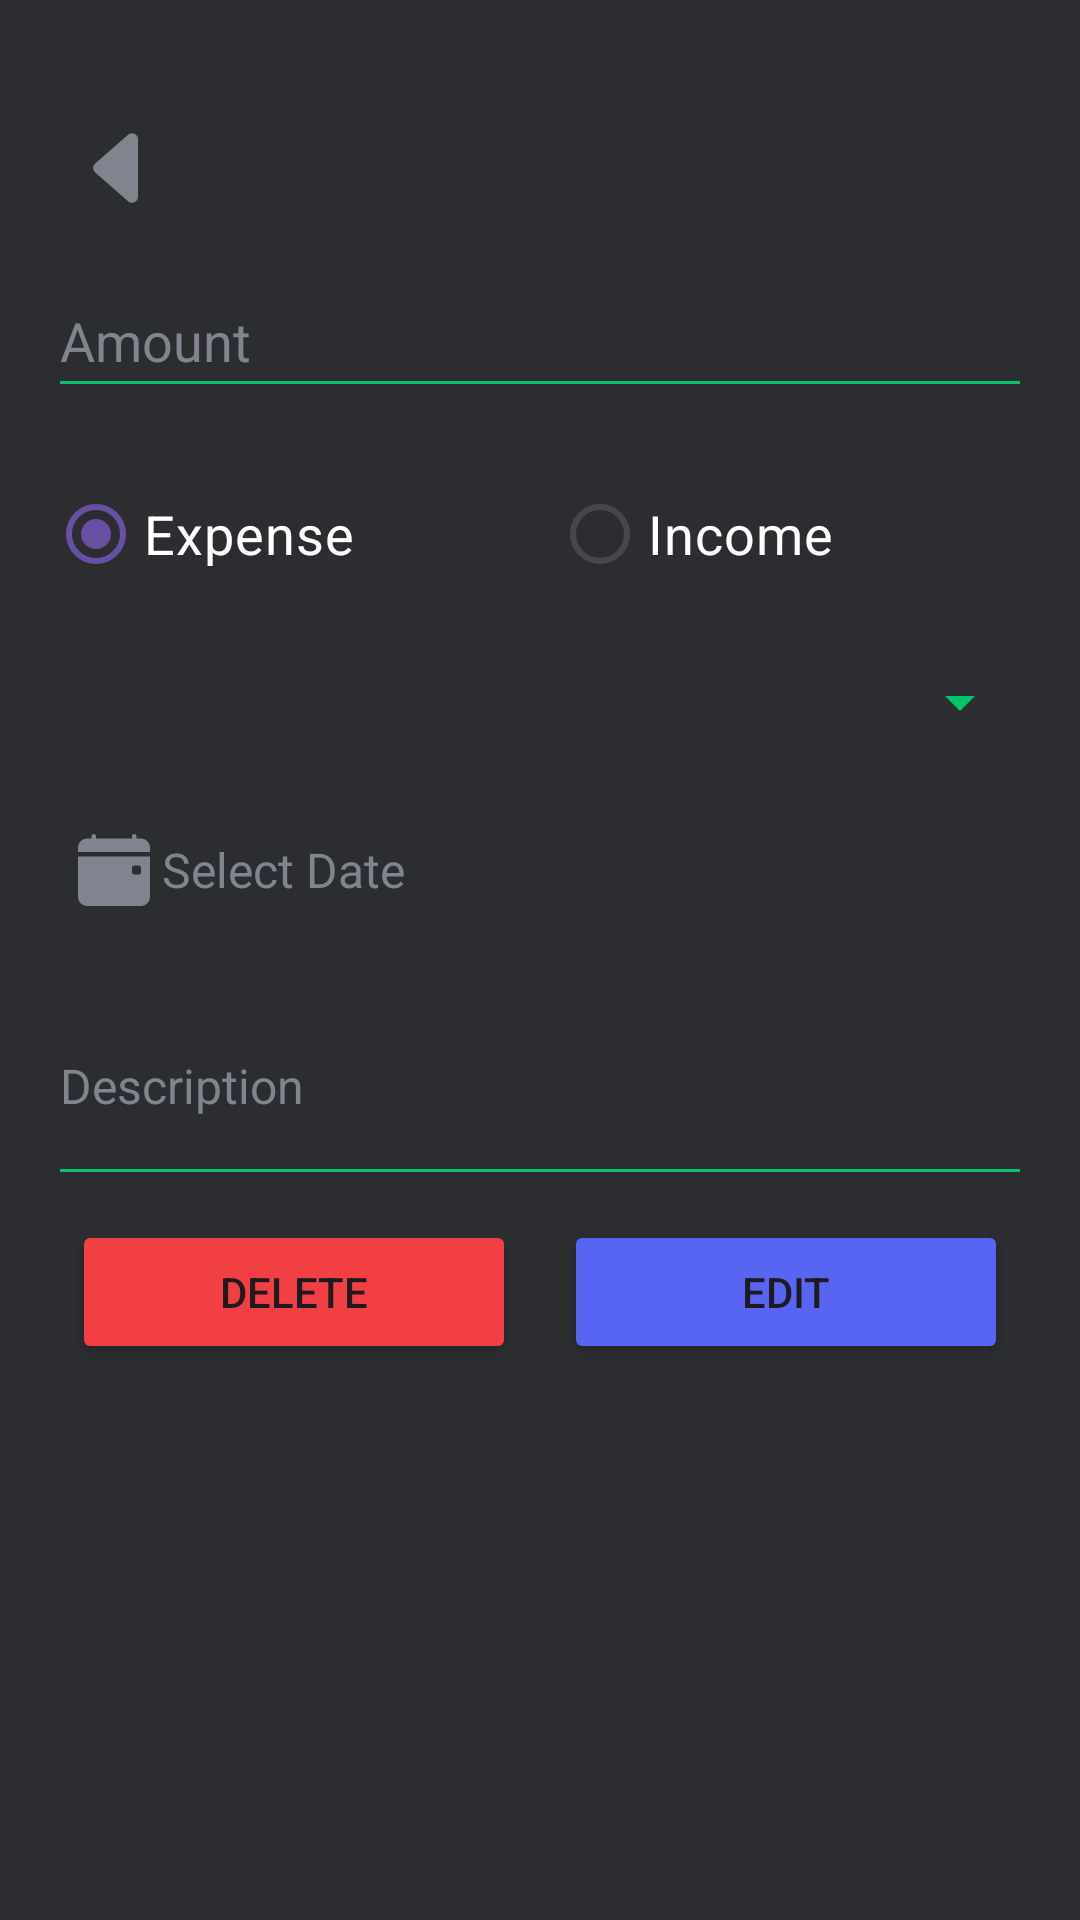

Screen size 1080 x 1920. Icon name, then its center in pixels as point (x, y):
back: point (115, 168)
